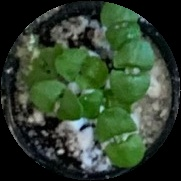Basil: (30, 78, 88, 130), (95, 107, 141, 164), (112, 43, 154, 101), (55, 45, 109, 84), (103, 3, 140, 48), (80, 93, 130, 114)
